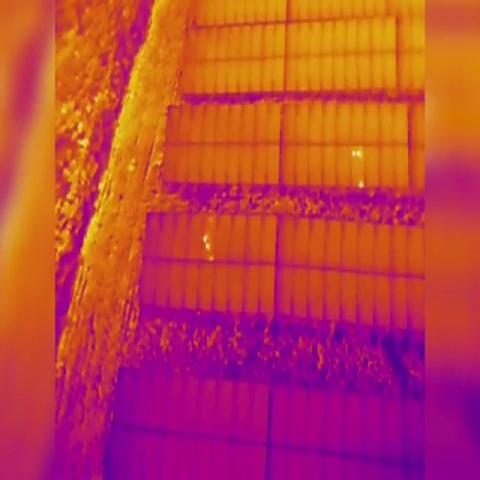fault: (355, 146, 362, 159), (350, 148, 356, 159), (358, 180, 364, 191), (201, 233, 207, 244), (207, 252, 213, 263), (204, 241, 209, 251)
